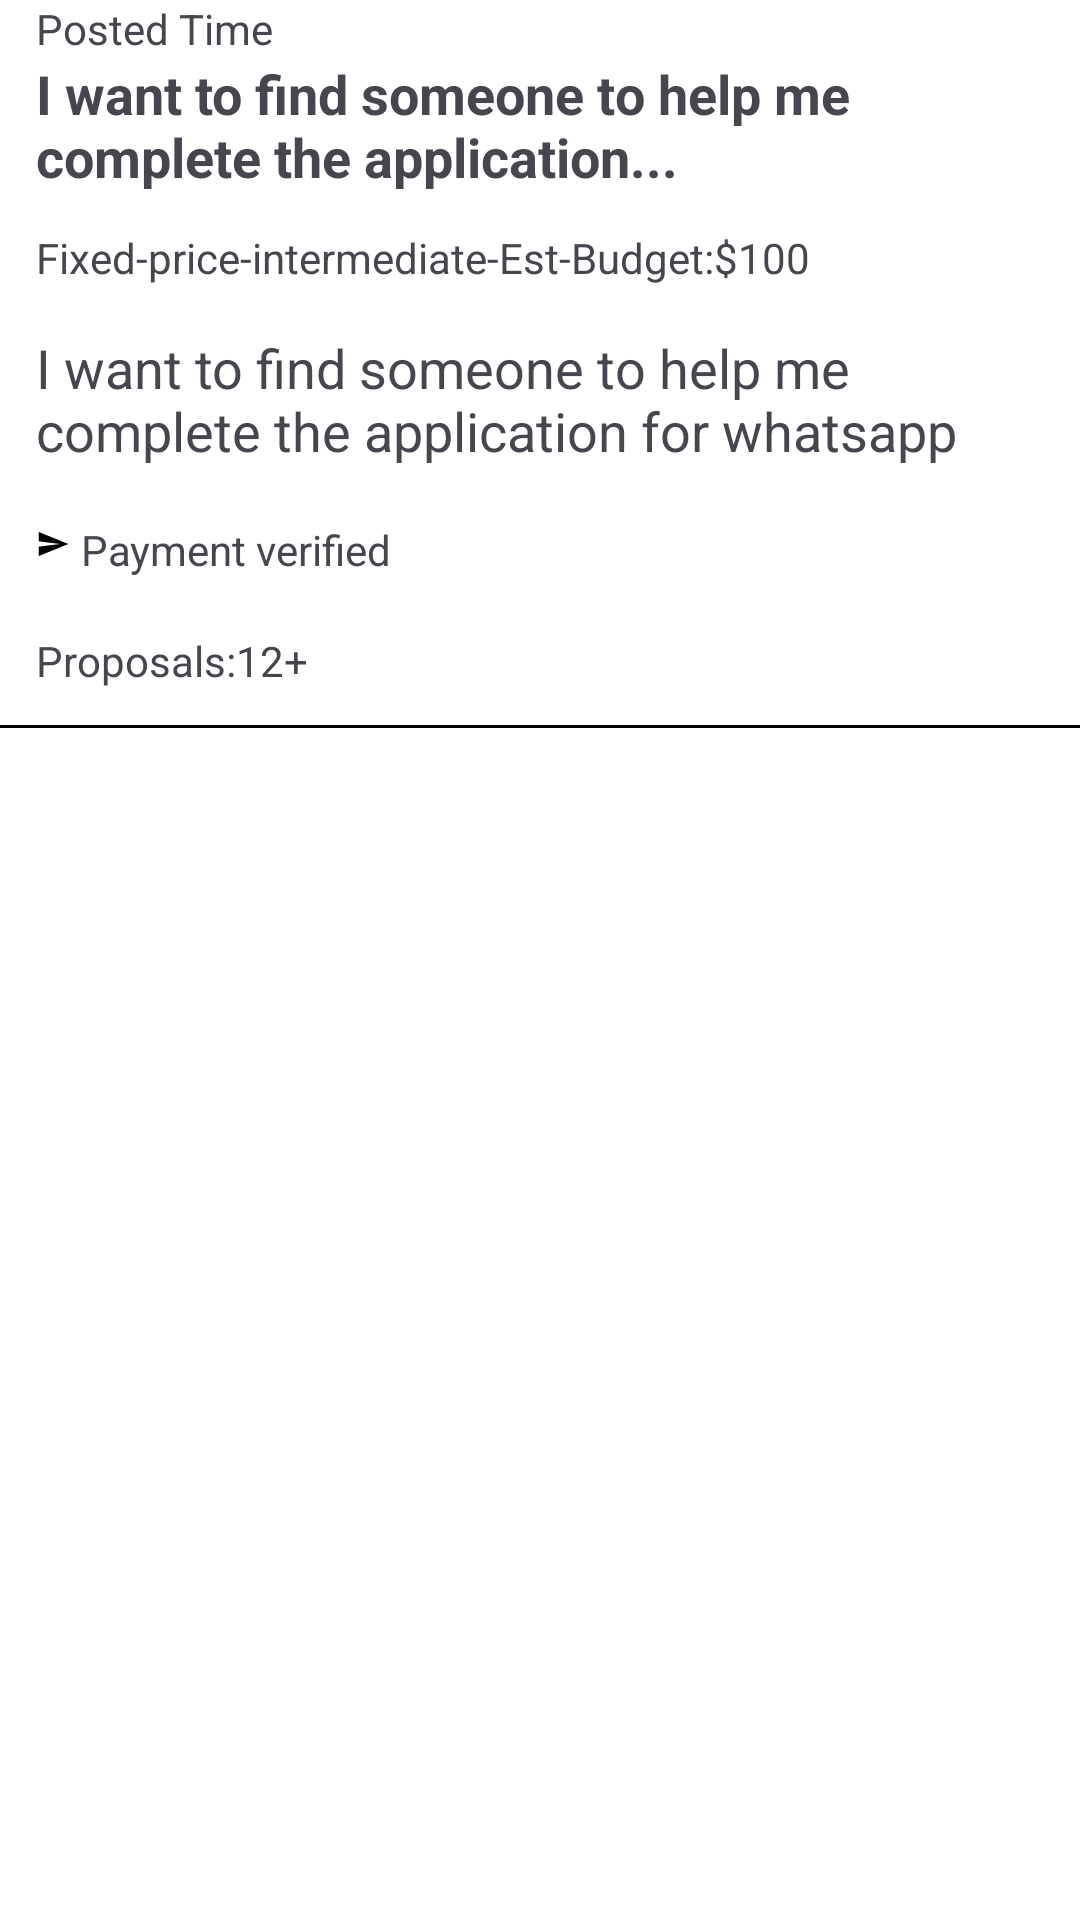

Icon bounding boxes for this 1080x1920 phone screenshot, format (x1, y1, x2, y2):
send: (38, 532, 68, 556)
